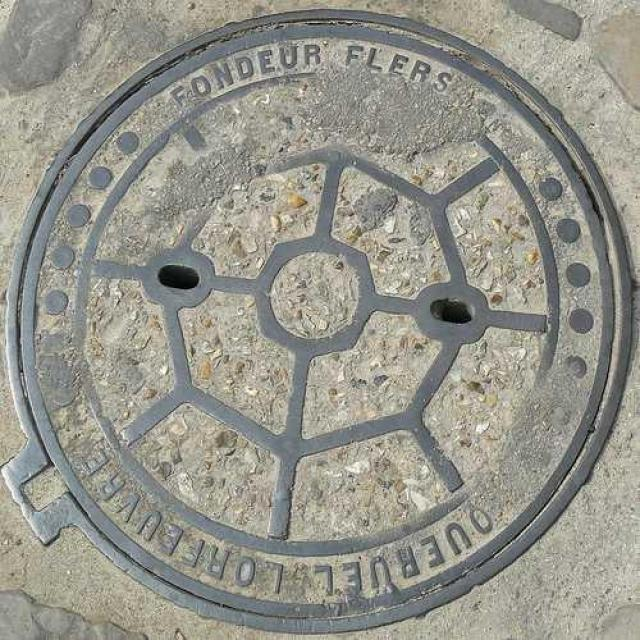manhole: (2, 10, 631, 632)
